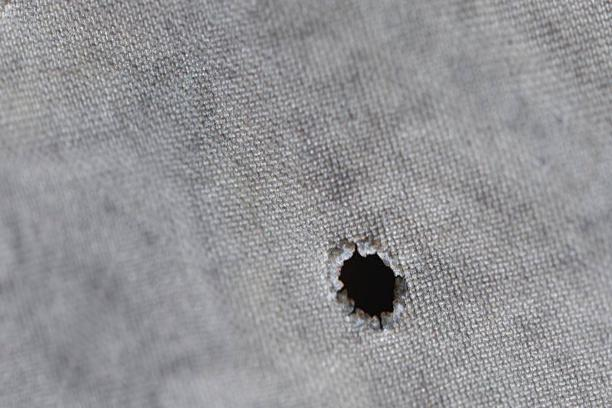hole: (323, 240, 411, 330)
